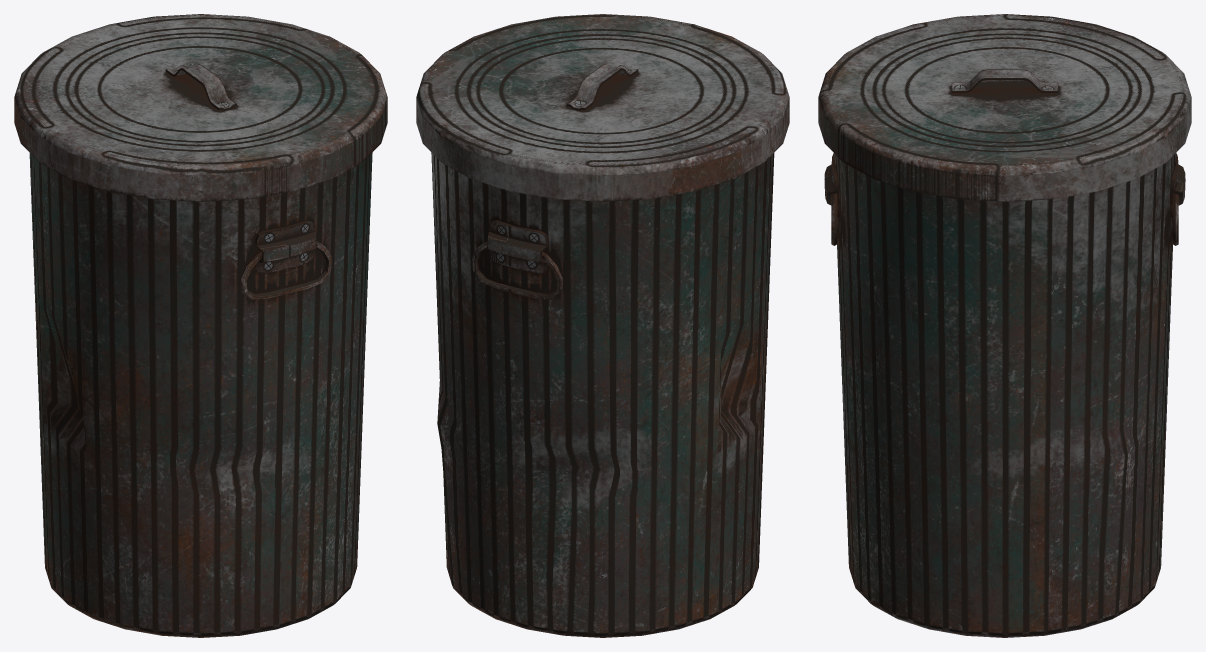
The model's file is Trash_Can_1.1.fbx.
3 views of the same model, side by side, from view 1: azimuth 30°, elevation 25°; view 2: azimuth 150°, elevation 25°; view 3: azimuth 270°, elevation 25° (orthographic).
Visible parts, largest first — view 1: Trash_Can, Trash_Can_Cover; view 2: Trash_Can, Trash_Can_Cover; view 3: Trash_Can, Trash_Can_Cover.
Boxes of the visible parts, <box> form: Trash_Can: <box>29,15,372,637</box>; Trash_Can_Cover: <box>14,14,387,201</box>; Trash_Can: <box>431,15,774,637</box>; Trash_Can_Cover: <box>416,14,789,201</box>; Trash_Can: <box>824,15,1185,637</box>; Trash_Can_Cover: <box>818,14,1191,201</box>.
Size of the model in its own units: 66.62 by 98.68 by 66.62.
Materials: 1 (1 with a texture image).
